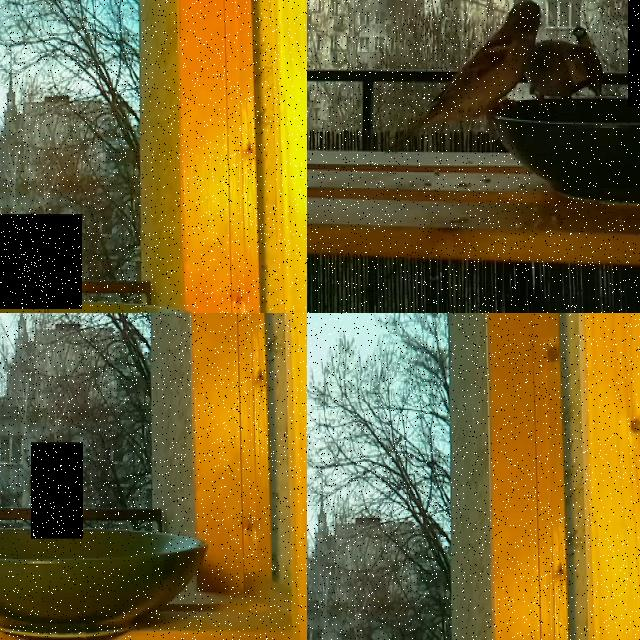Bogatka: (0, 214, 82, 308), (31, 442, 83, 538)
Wrobel: (390, 0, 539, 129), (505, 39, 605, 108)
